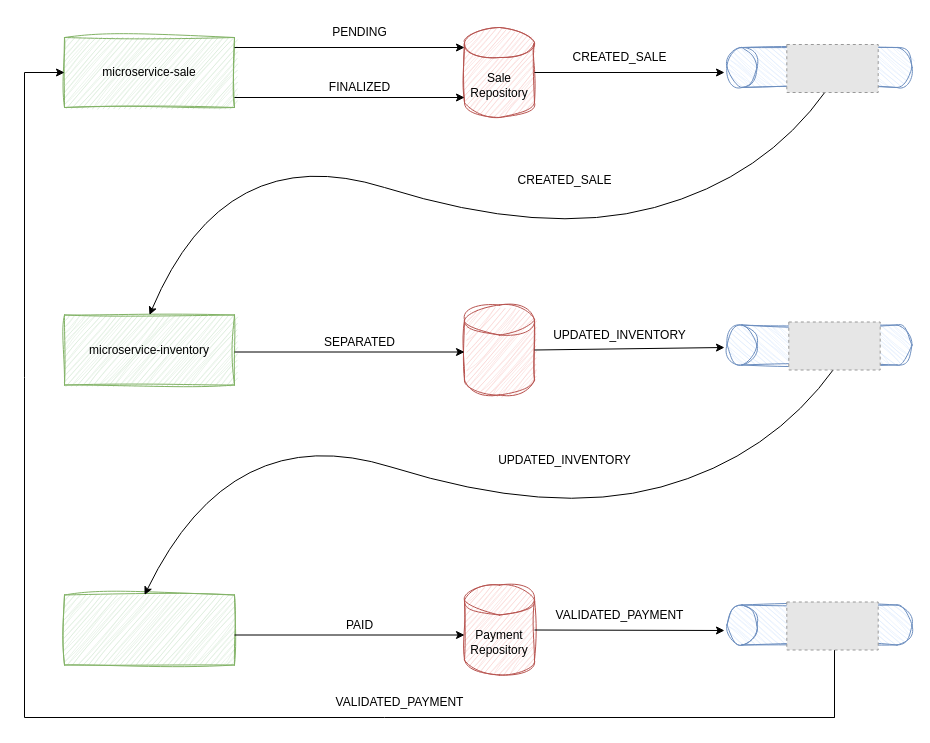
Image size: 930x743. Some labels were removed from this diagram. Grey dashed boxes stand in for pictures. The shapes that lost their labels are listed below. From the top down, each one's centre as x and y in pixels, then its label:
At (499,349): "inventory Repository".
At (149,629): "microservice-payment".
